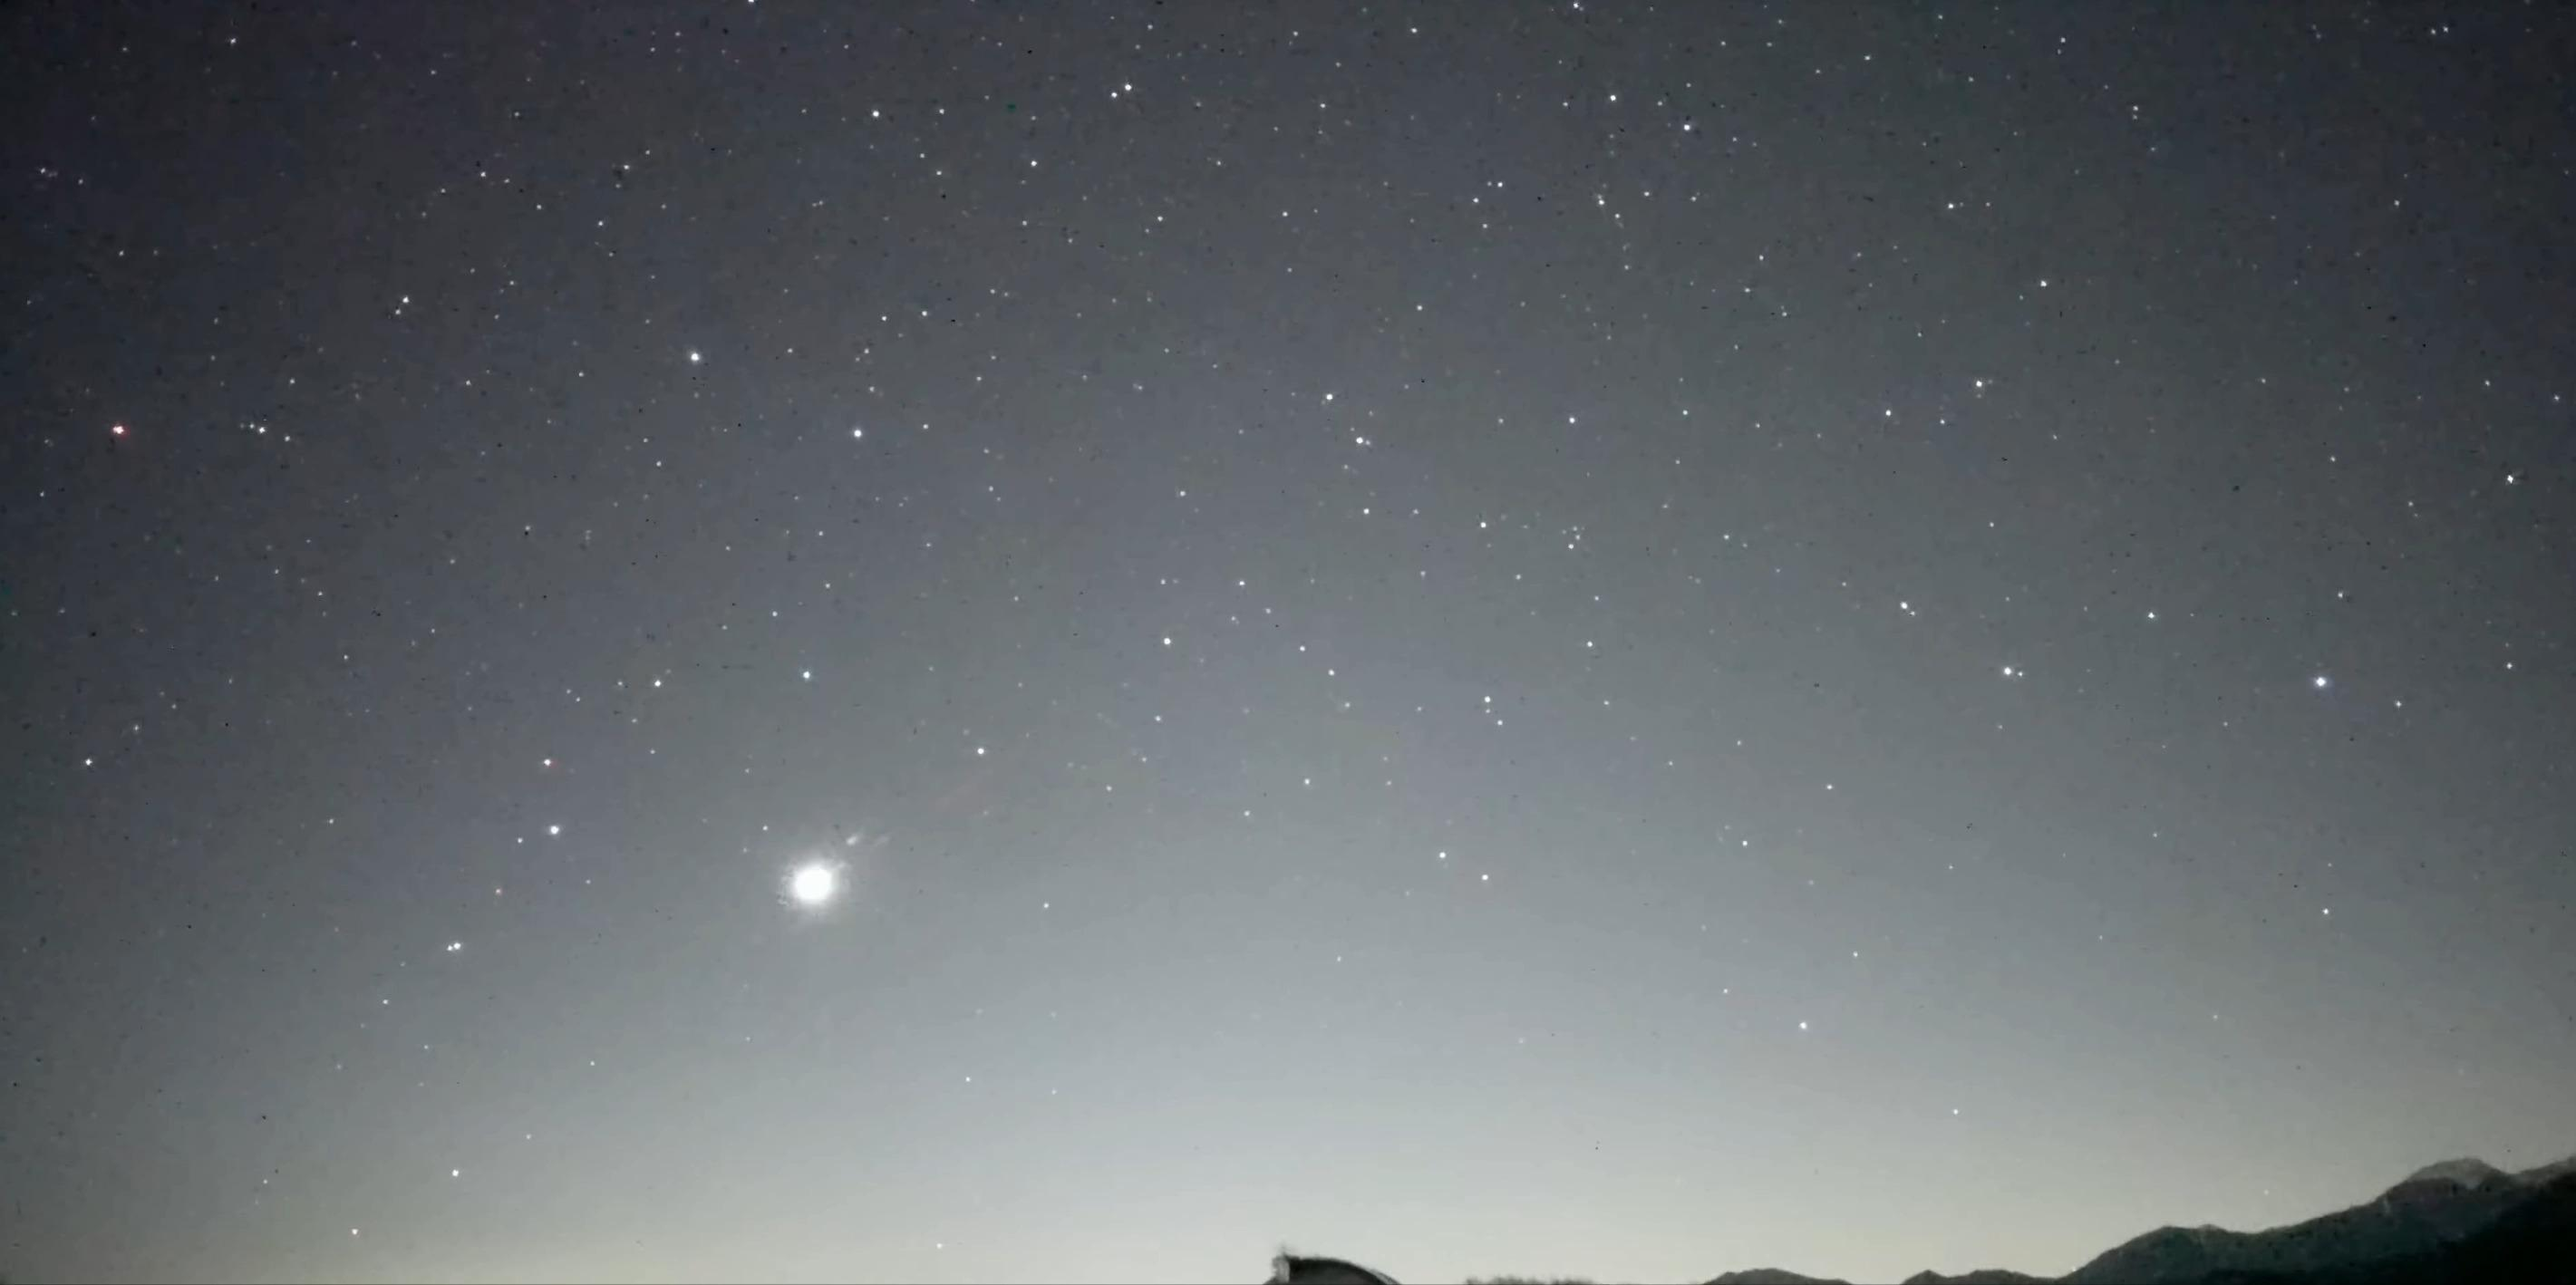Plane: (102, 404, 140, 454)
